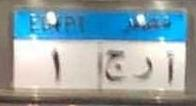1: (51, 49, 61, 80)
alif: (163, 49, 177, 86)
jeem: (104, 50, 125, 81)
raa: (133, 55, 155, 81)
